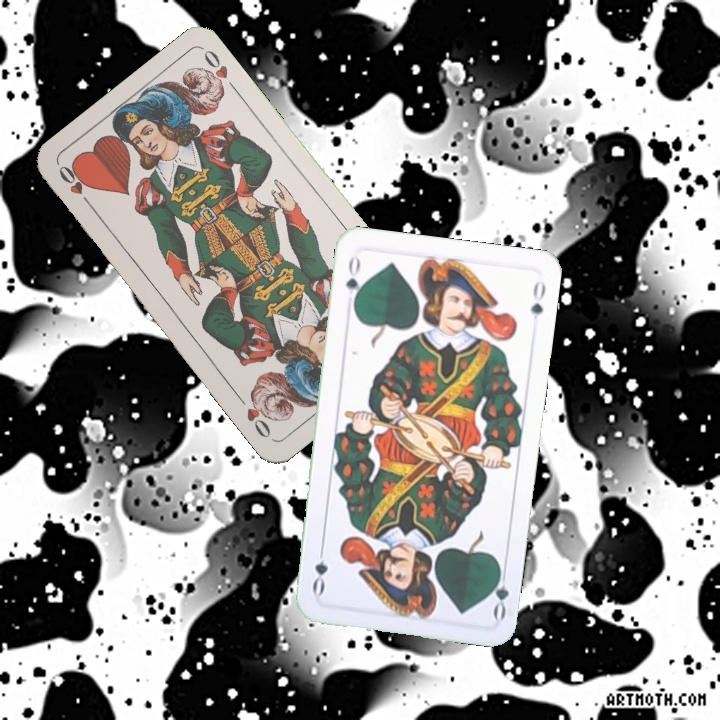GO: (485, 562, 512, 622), (341, 252, 364, 311)
HO: (54, 161, 96, 212)
